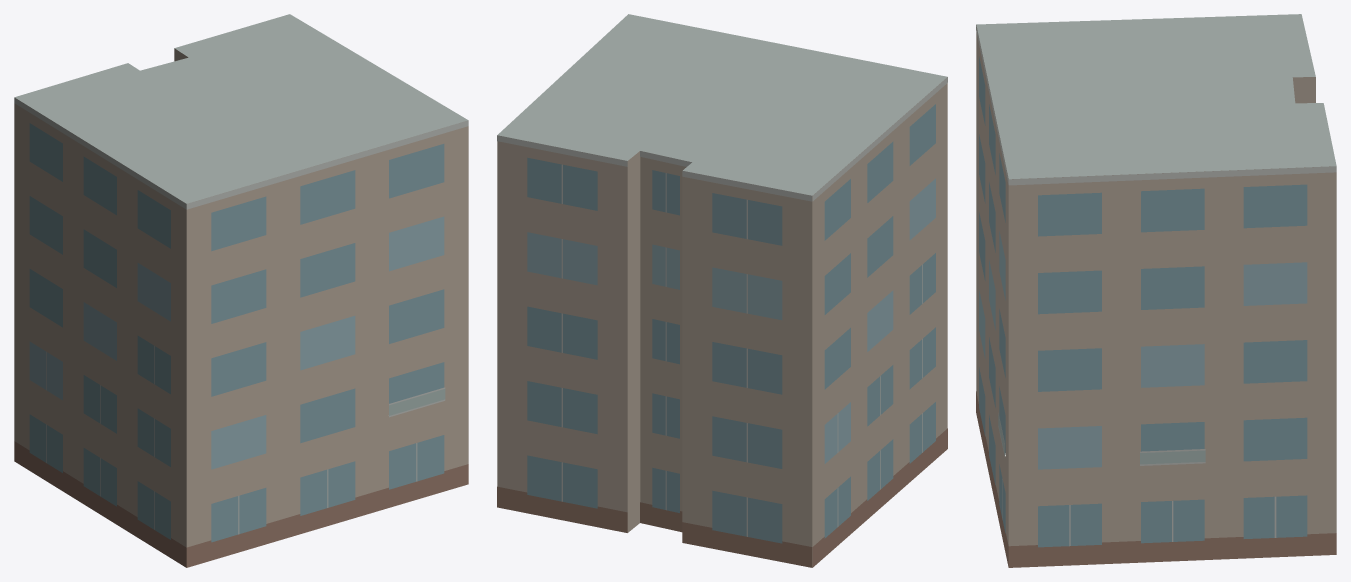
The model's file is survey-upis-32655687.glb.
The picture shows the model from 3 angles, left to right: view 1: azimuth 30°, elevation 25°; view 2: azimuth 150°, elevation 25°; view 3: azimuth 270°, elevation 25°; orthographic projection. The views are drawn at different scales.
Parts seen in each view (by area): view 1: survey-upis-32655687.tmp; view 2: survey-upis-32655687.tmp; view 3: survey-upis-32655687.tmp.
Boxes of the visible parts, left/top/right/bottom form: survey-upis-32655687.tmp: left=14, top=14, right=468, bottom=567; survey-upis-32655687.tmp: left=497, top=14, right=947, bottom=567; survey-upis-32655687.tmp: left=976, top=14, right=1336, bottom=567.
Size of the model in its own units: 13.92 by 15.25 by 12.83.
